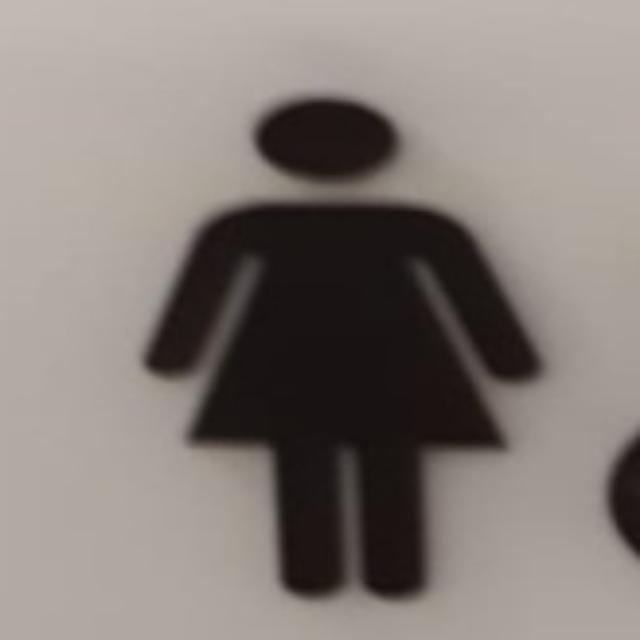womens_restroom: (144, 98, 539, 589)
